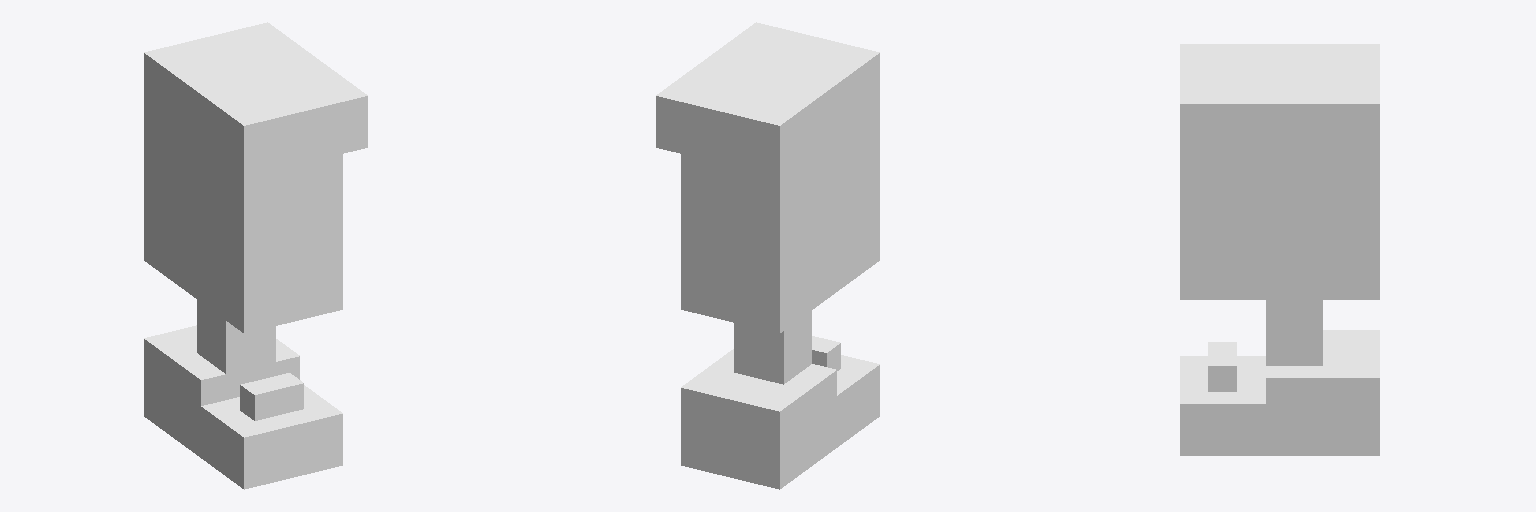
Rendered from CHARACTER-2.obj.
The picture shows the model from 3 angles: view 1: azimuth 30°, elevation 25°; view 2: azimuth 150°, elevation 25°; view 3: azimuth 270°, elevation 25°; orthographic projection.
Parts seen in each view (by area): view 1: object 1; view 2: object 1; view 3: object 1.
Part boxes in pixels (left/top/right/bottom): object 1: left=144, top=22, right=367, bottom=489; object 1: left=656, top=22, right=879, bottom=489; object 1: left=1180, top=44, right=1379, bottom=455.
Size of the model in its own units: 0.5 by 1.4 by 0.7.